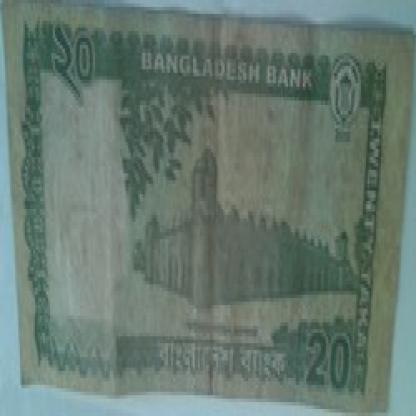Twenty: (48, 21, 110, 97), (301, 319, 353, 392)
